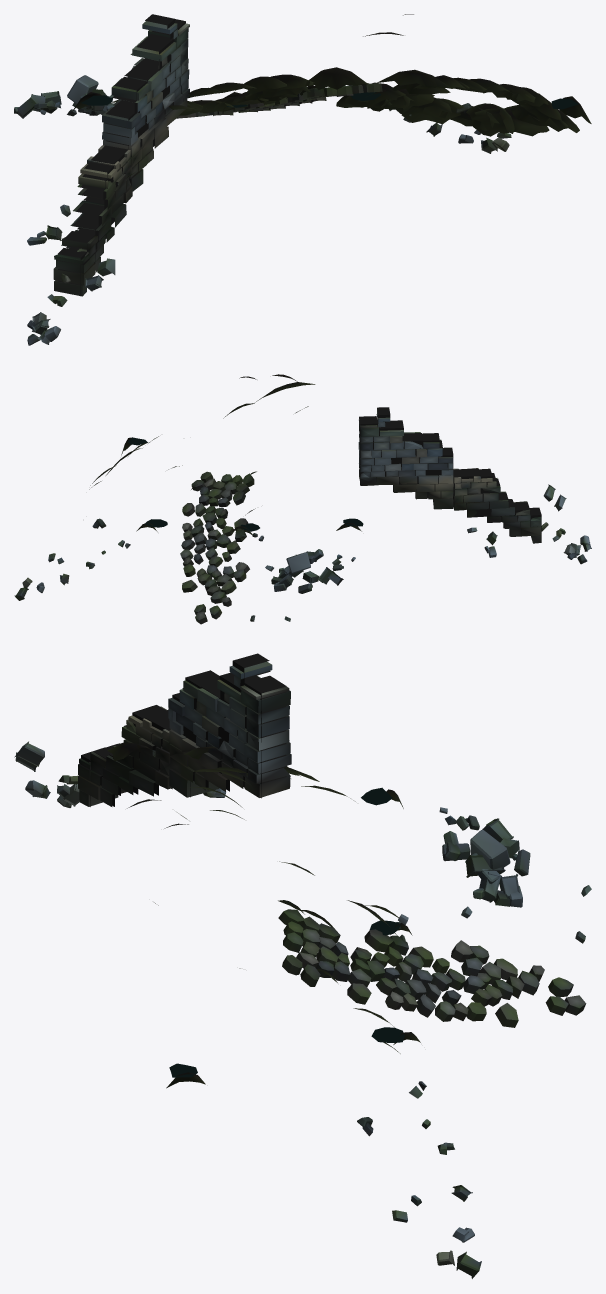
Rendered from sunken_bastion_entrance_ruins.glb.
3 views of the same model, one above another, from view 1: azimuth 30°, elevation 25°; view 2: azimuth 150°, elevation 25°; view 3: azimuth 270°, elevation 25° (orthographic). The views are drawn at different scales.
Visible parts, largest first — view 1: Entrance_Ruins; view 2: Entrance_Ruins; view 3: Entrance_Ruins.
Part boxes in pixels (bbox=[...]): Entrance_Ruins: bbox=[14, 14, 591, 345]; Entrance_Ruins: bbox=[14, 374, 591, 624]; Entrance_Ruins: bbox=[14, 653, 591, 1278].
Size of the model in its own units: 34.92 by 15.95 by 22.65.
